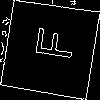F: (25, 24, 76, 62)
